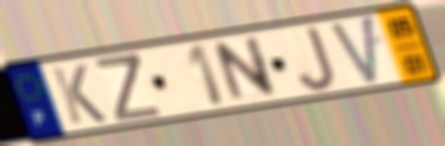1: (187, 41, 226, 111)
J: (296, 23, 338, 94)
K: (48, 62, 110, 127)
N: (211, 34, 281, 106)
V: (326, 12, 380, 89)
Z: (91, 52, 165, 125)
